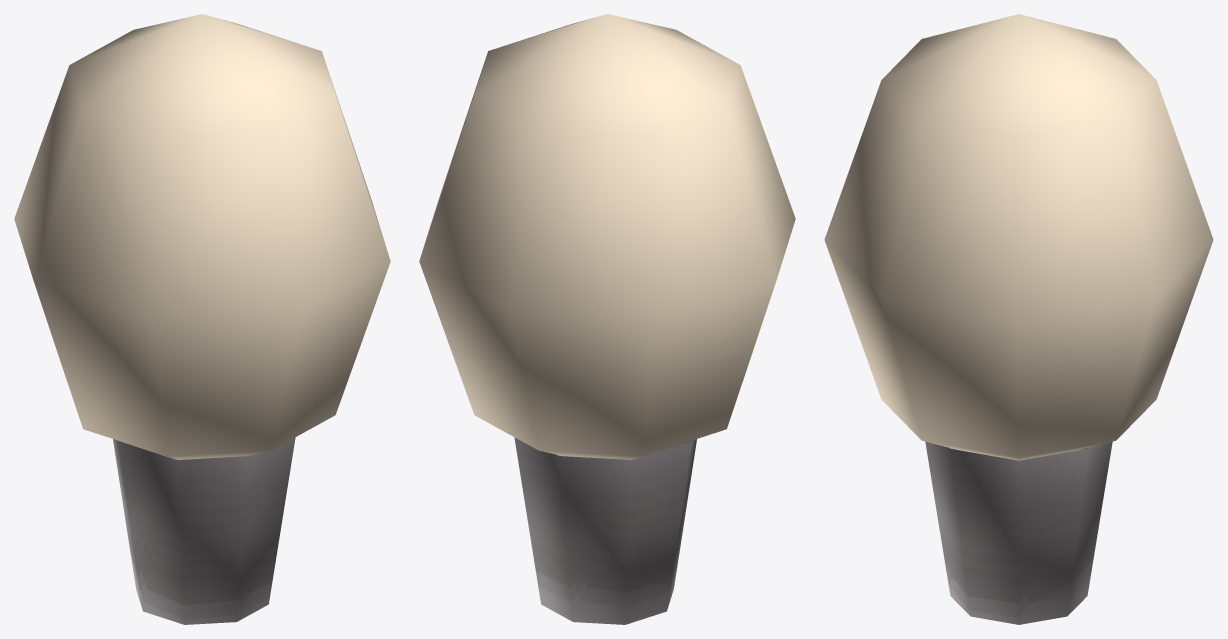
3 renders of one model, left to right at view 1: azimuth 30°, elevation 25°; view 2: azimuth 150°, elevation 25°; view 3: azimuth 270°, elevation 25°, orthographic.
Visible parts, largest first — view 1: Light; view 2: Light; view 3: Light.
Boxes of the visible parts, x1,y1,x2,y2 form: Light: (14, 14, 390, 624); Light: (419, 14, 795, 624); Light: (824, 14, 1213, 624).
Bounding box in the file's own units: 0.04 × 0.04 × 0.066.
Materials: 2 (2 with a texture image).
